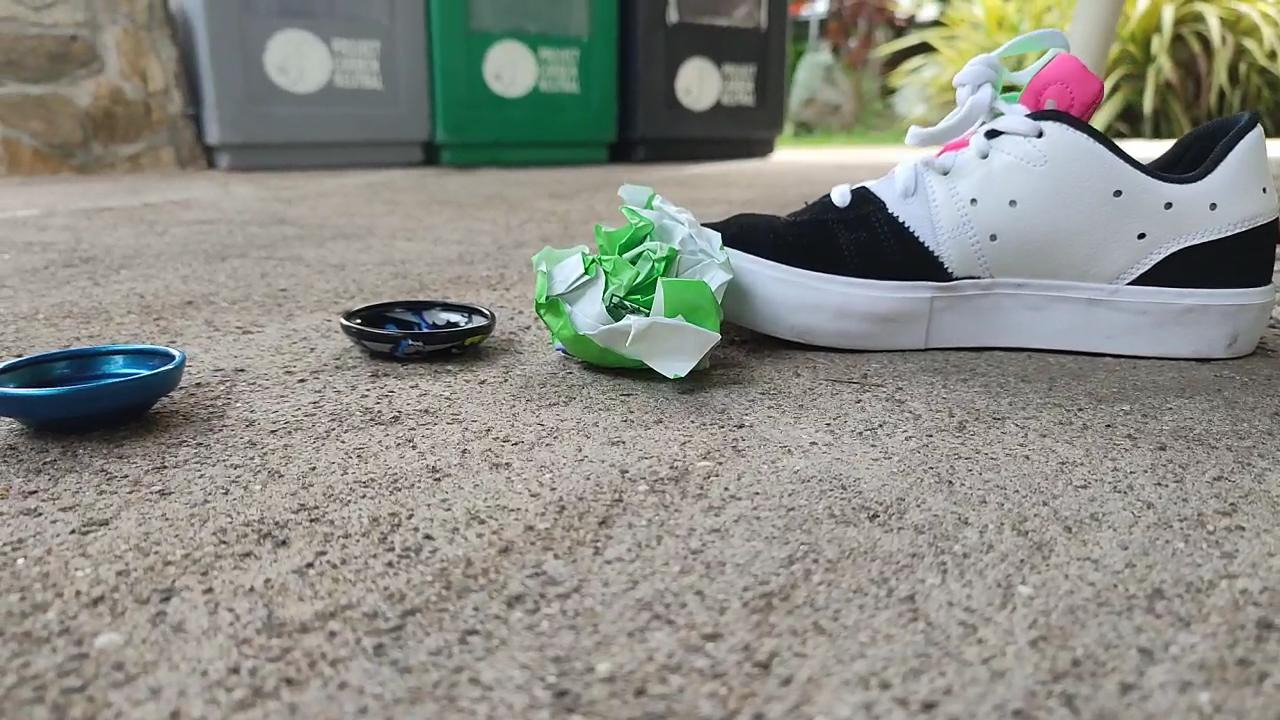Paper: (536, 172, 737, 388)
